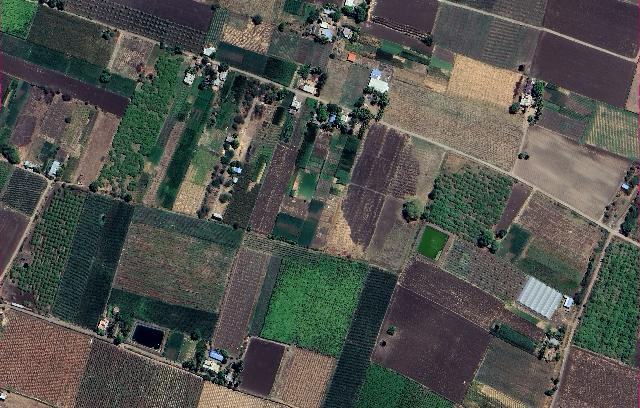DryFarms: (383, 72, 529, 175), (517, 124, 633, 220), (0, 301, 93, 408), (449, 57, 524, 110)
EmptyFarms: (369, 286, 495, 406), (340, 90, 411, 255), (1, 53, 128, 119), (531, 31, 638, 109), (543, 0, 640, 60), (553, 347, 640, 408), (248, 141, 303, 237), (106, 0, 218, 34), (234, 338, 289, 394), (369, 0, 440, 40), (0, 205, 33, 283)
Farms: (94, 44, 194, 205), (263, 242, 373, 362), (51, 190, 135, 332), (112, 223, 239, 315), (319, 265, 400, 408), (3, 184, 90, 316), (423, 148, 518, 248), (571, 235, 640, 370), (74, 340, 205, 408), (429, 3, 545, 77), (402, 254, 509, 331), (211, 249, 272, 358), (27, 4, 123, 67), (361, 363, 462, 408), (215, 38, 298, 89)
water: (417, 225, 451, 263), (129, 323, 168, 352)
